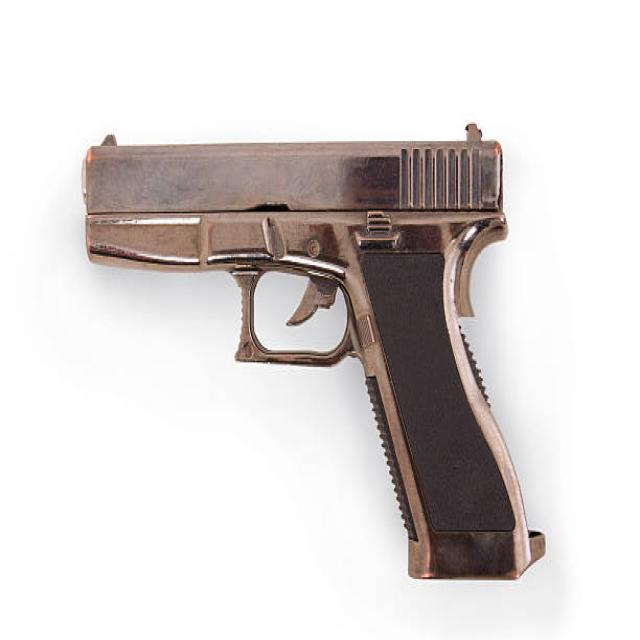pistol: (81, 118, 553, 593)
